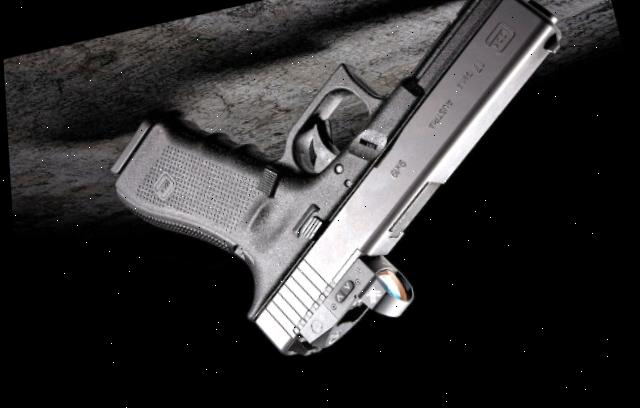pistol: (74, 0, 623, 392)
